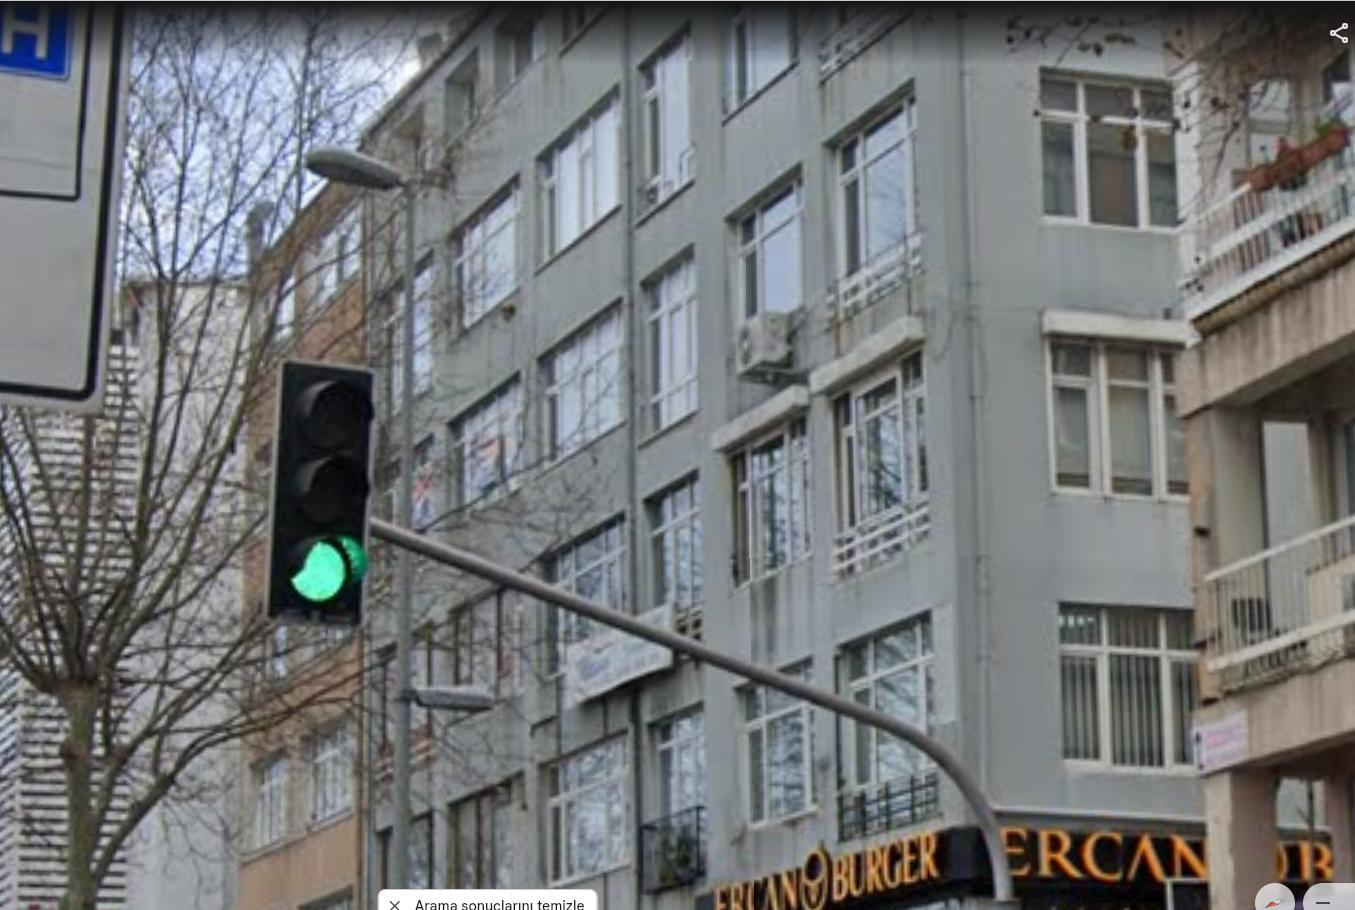greenlight: (281, 361, 370, 610)
